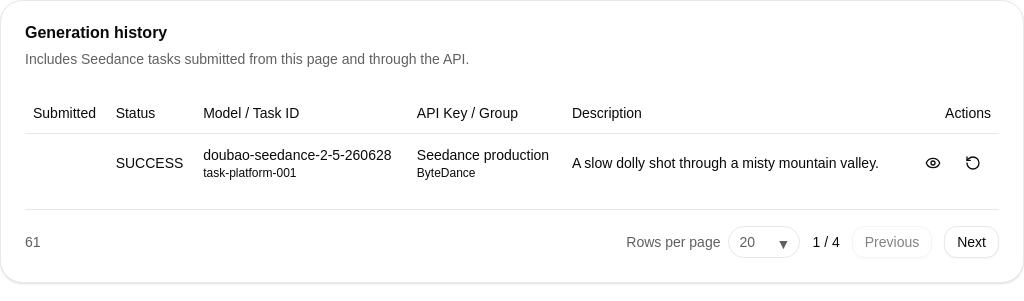
Test: Seedance generation history › shows complete task facts and only the approved page-size choices
Expected: the row "task-platform-001" shows "A slow dolly shot", [572, 155, 879, 171]
Expected: the row "task-platform-001" shows "3 / 1 / 2", [906, 155, 953, 171]
Step 1. Click the dropdown named "Rows per page" → click(764, 242), box [728, 226, 800, 258]
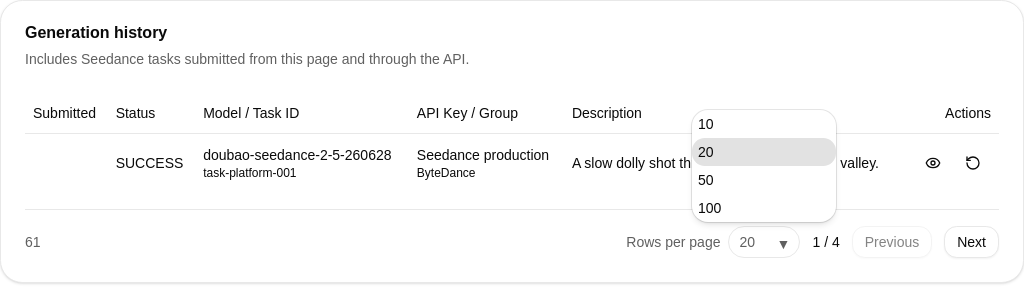
Expected: the option "10" is shown, [698, 116, 714, 132]
Expected: the option "50" is shown, [698, 172, 714, 188]
Expected: the option "100" is shown, [698, 200, 721, 216]
